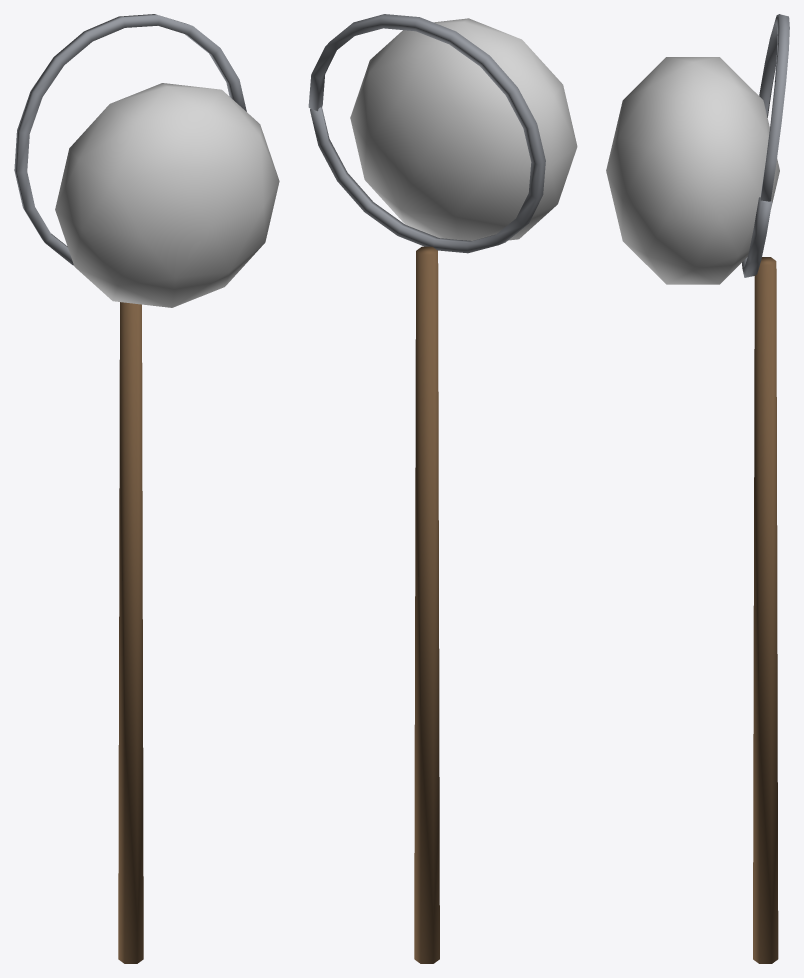
Rendered from bug_net.glb.
The picture shows the model from 3 angles, left to right: view 1: azimuth 30°, elevation 25°; view 2: azimuth 150°, elevation 25°; view 3: azimuth 270°, elevation 25°; orthographic projection.
Parts seen in each view (by area): view 1: bug_net_v0; view 2: bug_net_v0; view 3: bug_net_v0.
Part boxes in pixels (left/top/right/bottom): bug_net_v0: left=14, top=14, right=279, bottom=963; bug_net_v0: left=308, top=14, right=577, bottom=963; bug_net_v0: left=606, top=14, right=789, bottom=963.
Size of the model in its own units: 0.2941 by 1.14 by 0.2028.
